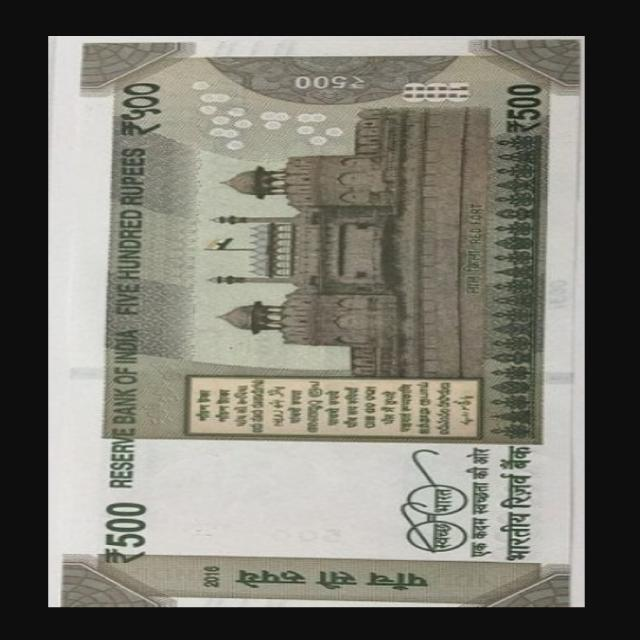500IndianRupees: (56, 36, 589, 610)
